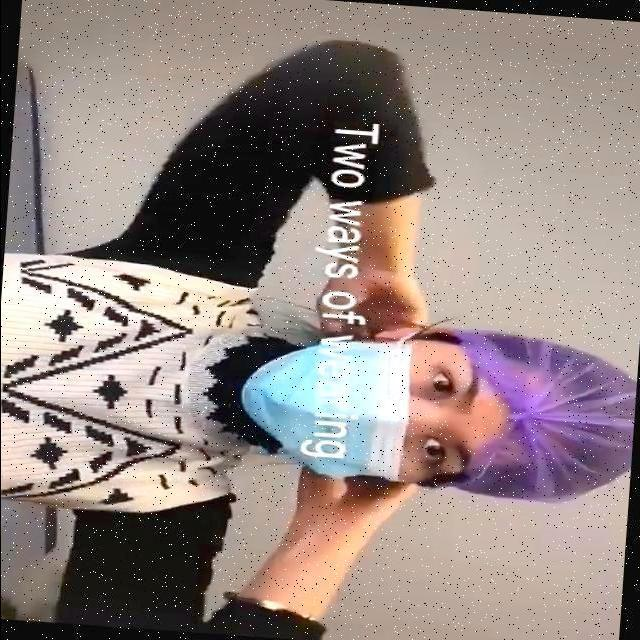gloves: (504, 349, 640, 491)
mask: (269, 349, 402, 473)
